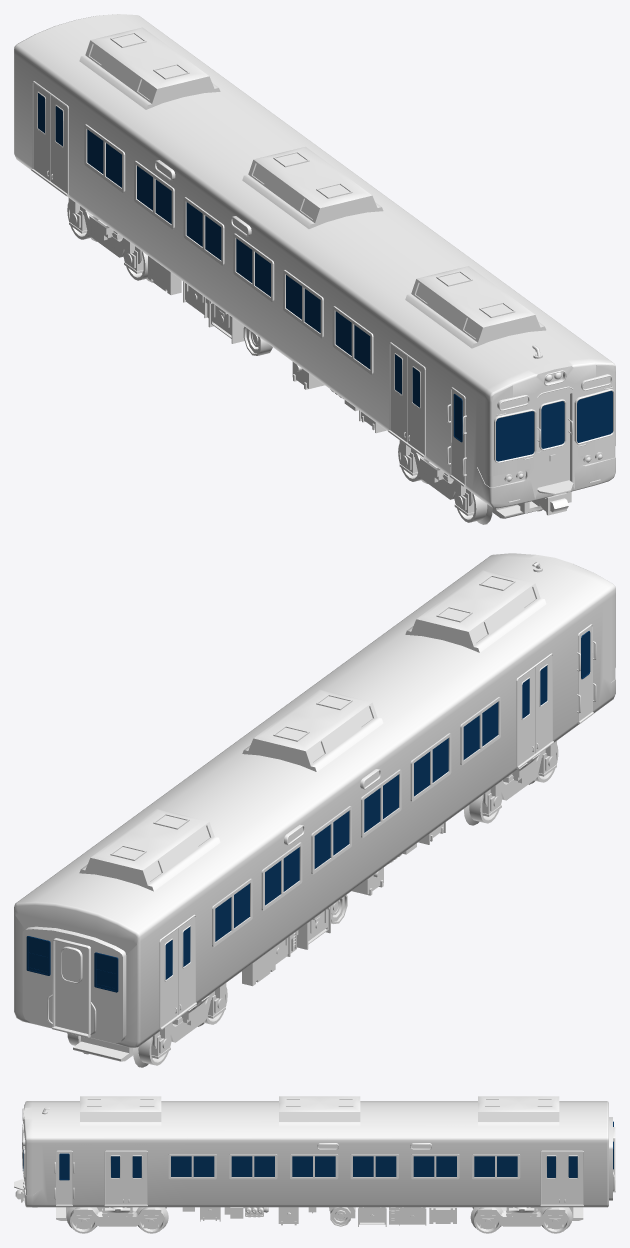
Rendered from trainstation_ep_train.fbx.
3 renders of one model, top to bottom at view 1: azimuth 30°, elevation 25°; view 2: azimuth 150°, elevation 25°; view 3: azimuth 270°, elevation 25°, orthographic. The views are drawn at different scales.
Visible parts, largest first — view 1: ts_add_train; view 2: ts_add_train; view 3: ts_add_train.
Boxes of the visible parts, box(x1,y1,x2,y2) form: ts_add_train: box(14, 14, 615, 524); ts_add_train: box(14, 553, 615, 1067); ts_add_train: box(14, 1096, 615, 1233).
Bounding box in the file's own units: 99.53 × 142 × 635.
